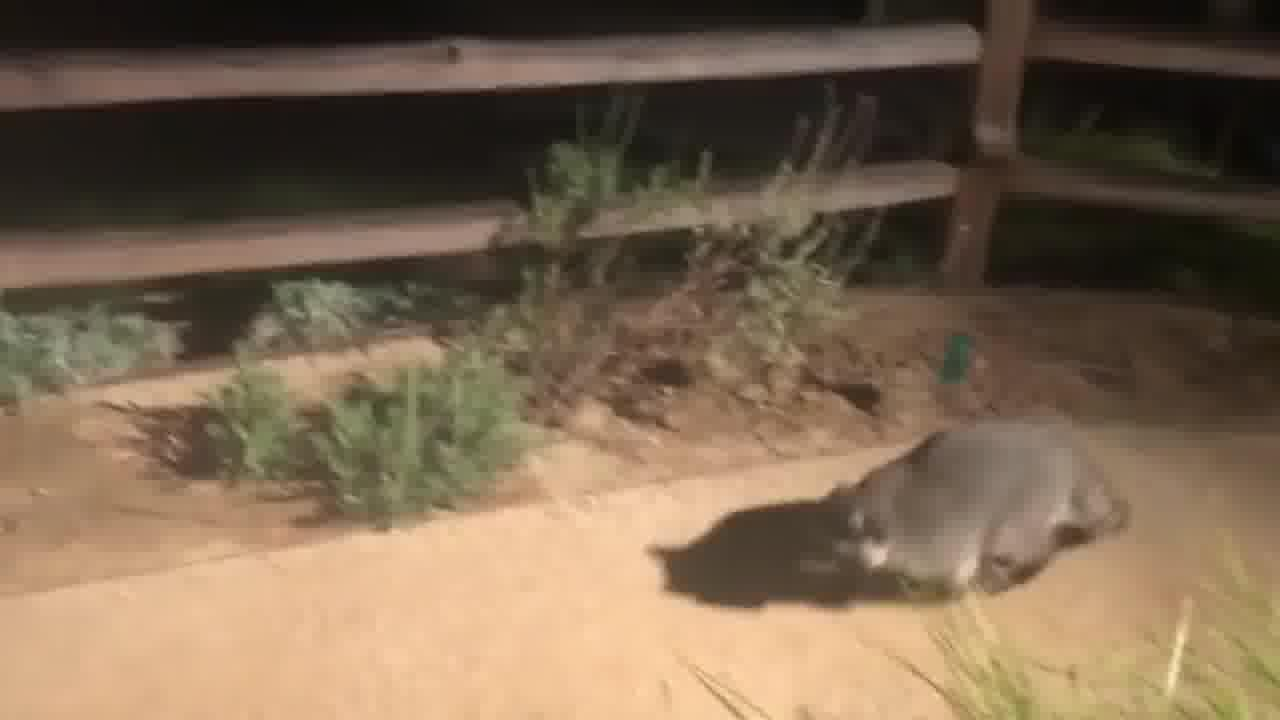raccoon: (798, 415, 1155, 616)
